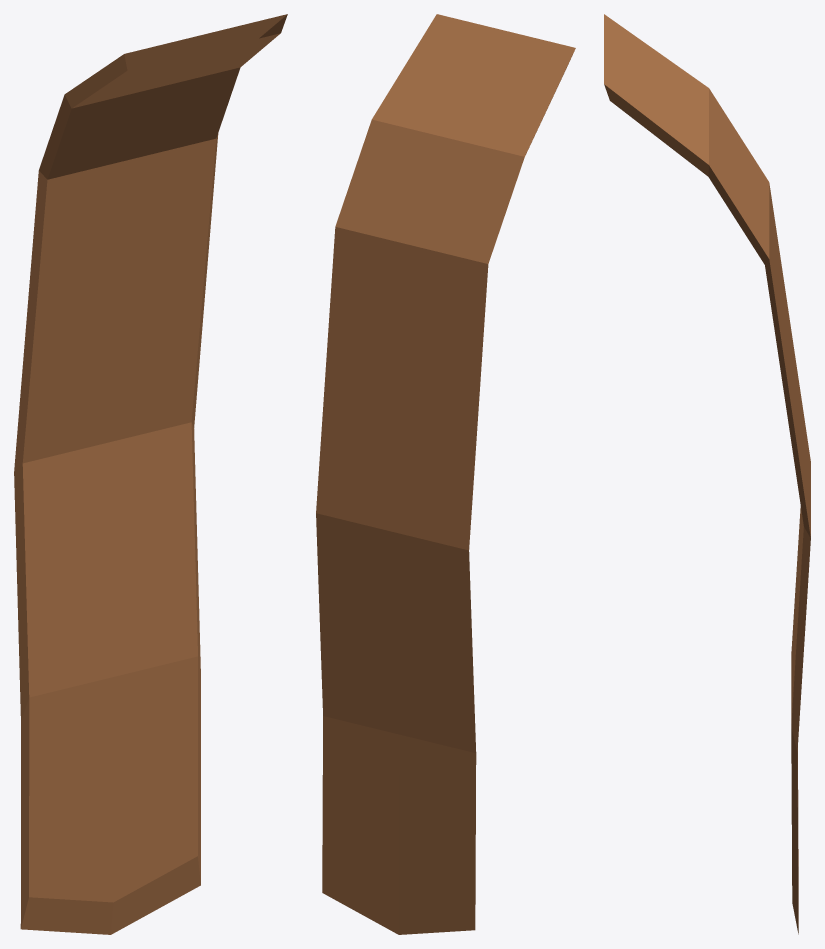
File: ReRiggedGrayCharacter7-9-2018Scarf.fbx
3 views of the same model, side by side, from view 1: azimuth 30°, elevation 25°; view 2: azimuth 150°, elevation 25°; view 3: azimuth 270°, elevation 25° (orthographic). The views are drawn at different scales.
Visible parts, largest first — view 1: ScarfTail; view 2: ScarfTail; view 3: ScarfTail.
Part boxes in pixels (<box>): ScarfTail: <box>14,14,287,934</box>; ScarfTail: <box>316,14,575,934</box>; ScarfTail: <box>604,14,810,934</box>.
Bounding box in the file's own units: 6.51 × 32.49 × 7.04.
